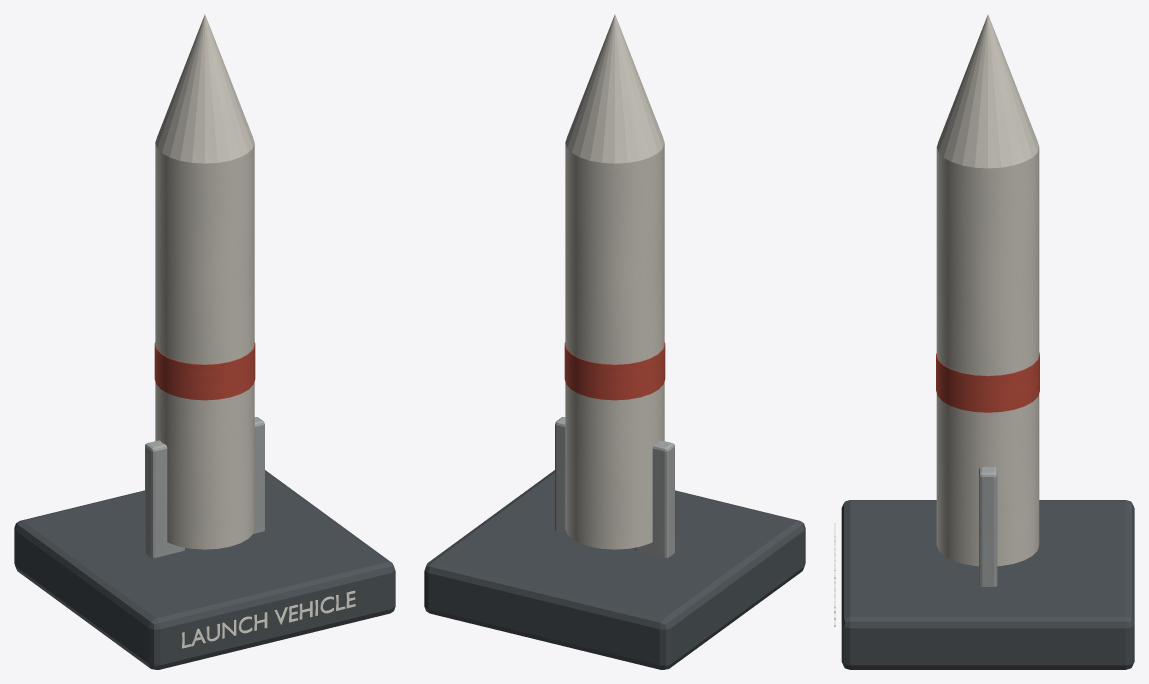
File: display_rocket_miniature.glb
3 views of the same model, side by side, from view 1: azimuth 30°, elevation 25°; view 2: azimuth 150°, elevation 25°; view 3: azimuth 270°, elevation 25° (orthographic). The views are drawn at different scales.
Parts seen in each view (by area): view 1: DisplayBase, RocketBody, NoseCone, RocketBand, Fin, LABEL_LAUNCH_VEHICLE, Fin.001; view 2: DisplayBase, RocketBody, NoseCone, RocketBand, Fin, Fin.001; view 3: DisplayBase, RocketBody, NoseCone, RocketBand, Fin.001.
Part boxes in pixels (x1,y1,x2,y2): DisplayBase: (14,470,395,669); RocketBody: (155,143,254,549); NoseCone: (155,14,254,163); RocketBand: (154,342,255,400); Fin: (145,440,184,557); LABEL_LAUNCH_VEHICLE: (182,590,355,648); Fin.001: (253,417,264,533); DisplayBase: (424,470,805,669); RocketBody: (565,143,664,549); NoseCone: (565,14,664,163); RocketBand: (564,342,665,400); Fin: (635,440,674,557); Fin.001: (555,417,566,533); DisplayBase: (841,500,1134,669); RocketBody: (936,147,1039,566); NoseCone: (937,14,1039,168); RocketBand: (936,352,1039,412); Fin.001: (979,467,997,586).
Bounding box in the file's own units: 0.4 × 0.9 × 0.4098.
5 materials, 3 textured.
